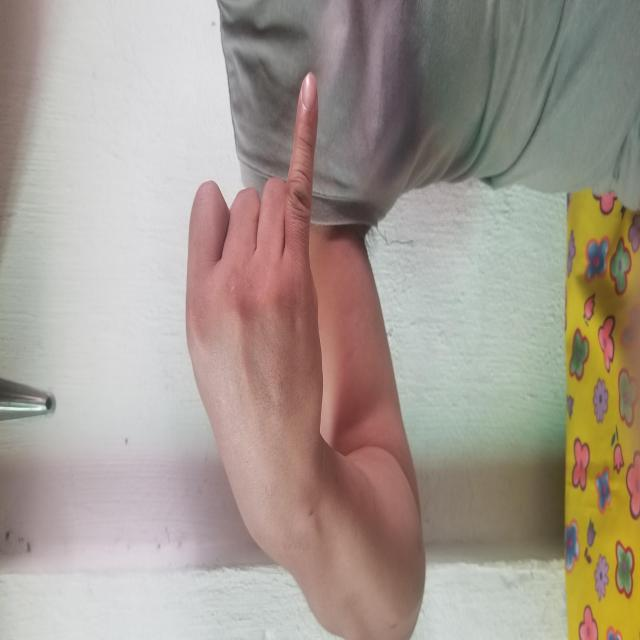J: (130, 32, 432, 602)
